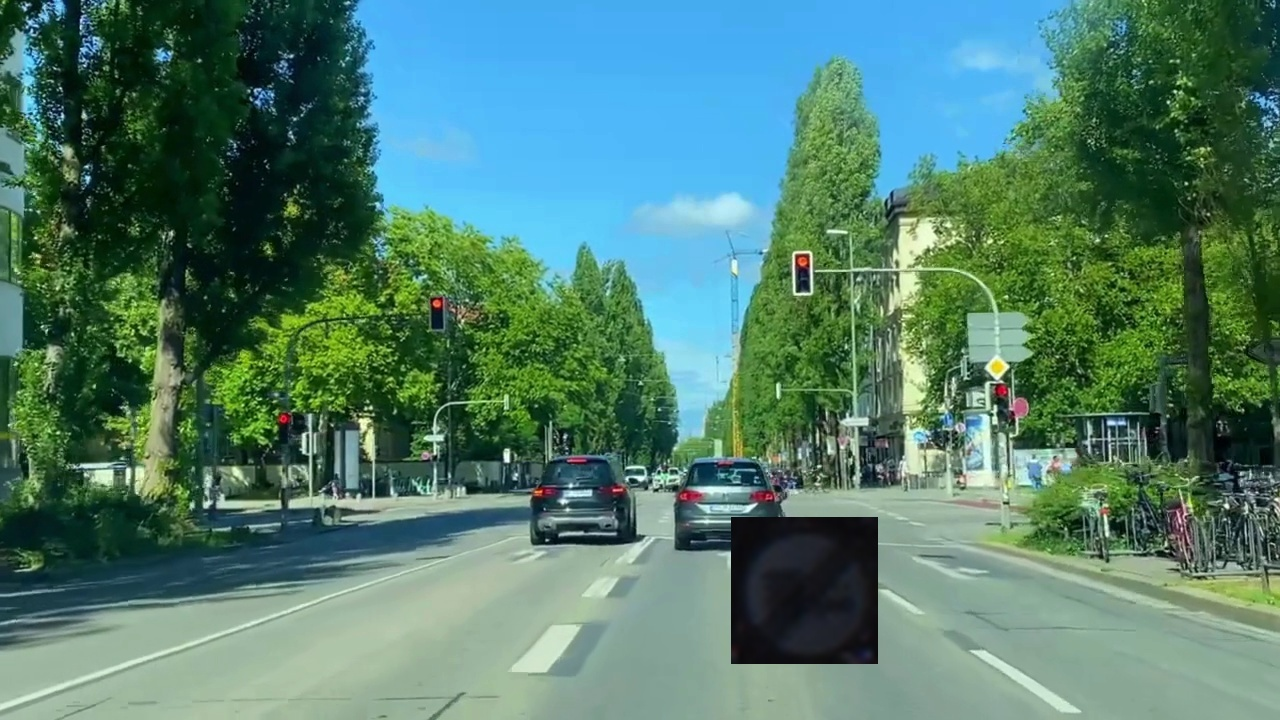End no pass >3.5t: (731, 517, 878, 664)
